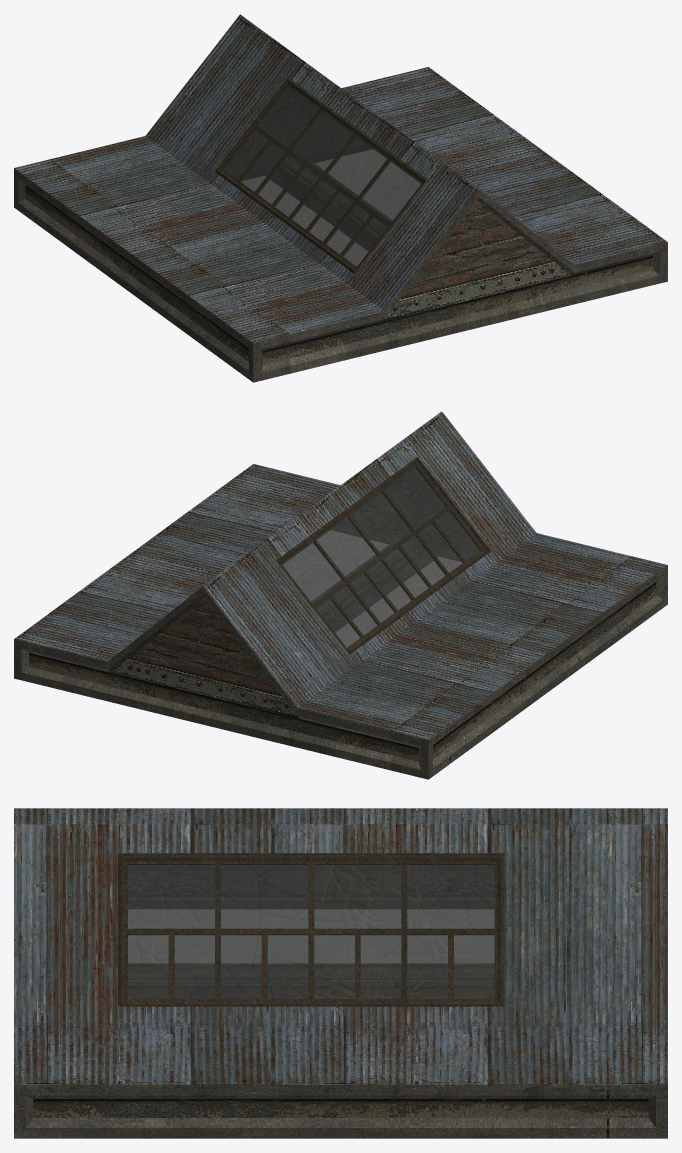
File: roof_bx_1_corner_1.glb
3 renders of one model, top to bottom at view 1: azimuth 30°, elevation 25°; view 2: azimuth 150°, elevation 25°; view 3: azimuth 270°, elevation 25°, orthographic. The views are drawn at different scales.
Parts seen in each view (by area): view 1: roof_bx_1_corner_1; view 2: roof_bx_1_corner_1; view 3: roof_bx_1_corner_1.
Boxes of the visible parts, bbox=[...] form: roof_bx_1_corner_1: bbox=[14, 14, 667, 382]; roof_bx_1_corner_1: bbox=[14, 411, 667, 779]; roof_bx_1_corner_1: bbox=[14, 808, 667, 1138].
Bounding box in the file's own units: 4.4 × 1.4 × 4.4.
Materials: 5 (5 with a texture image).
